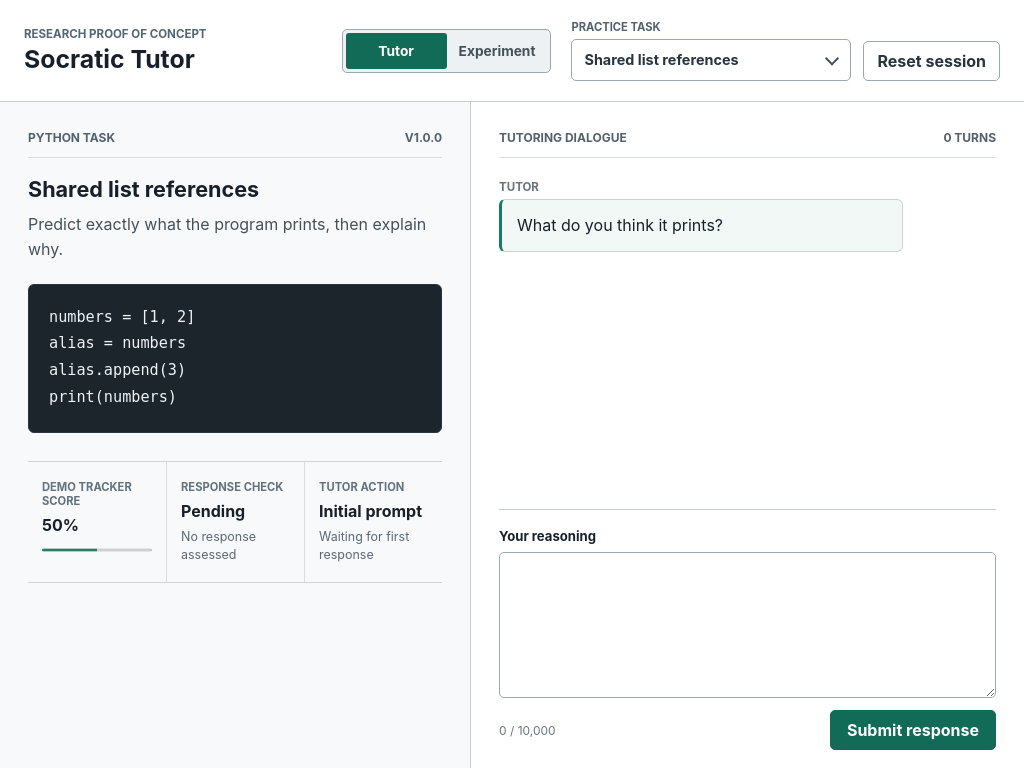
Test: retries a failed submission with the same idempotency key
The width and height of the screenshot is (1024, 768).
Type "my response" into the text box labelled "Your reasoning".
click(748, 625); type("my response")  # box top-left (499, 552), bottom-right (996, 698)
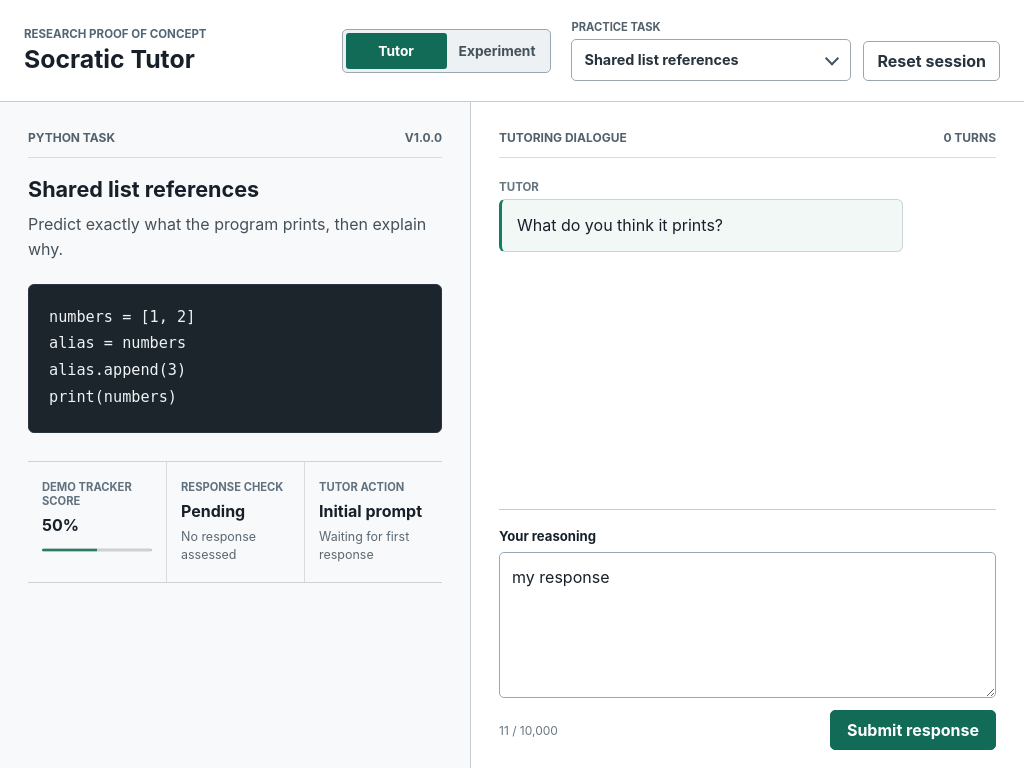
Click the button "Submit response".
click(913, 730)  # box top-left (830, 710), bottom-right (996, 750)
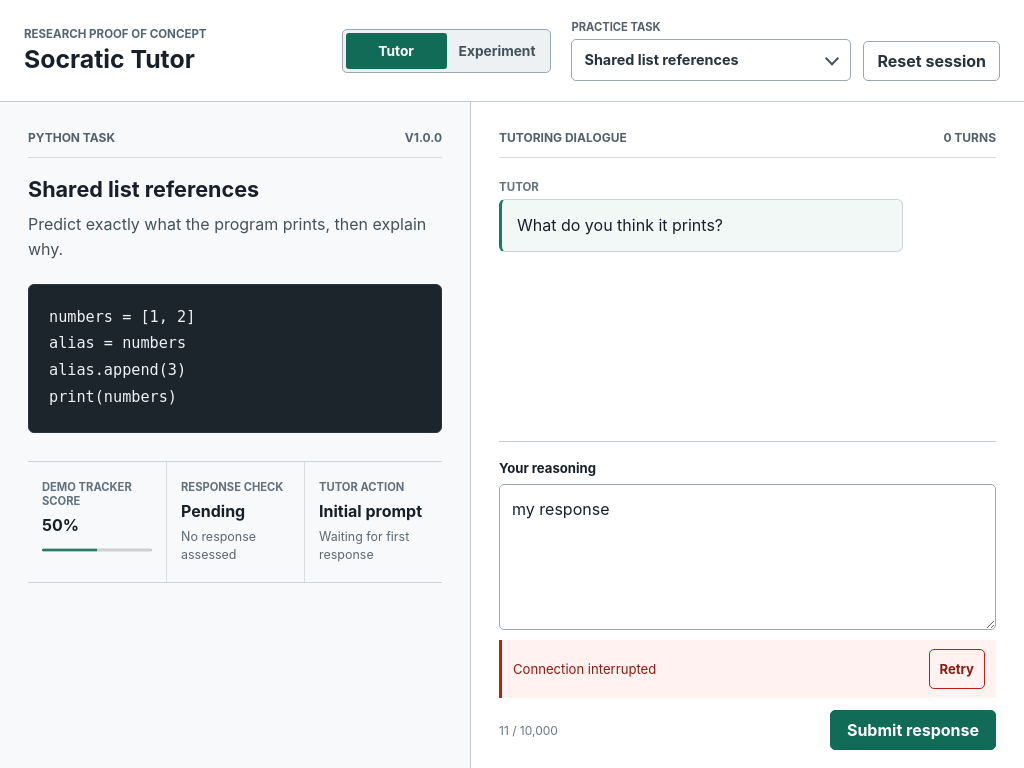
Check: the message shows "Connection interrupted", box top-left (513, 661), bottom-right (656, 677)
Click the button "Retry".
click(957, 669)  # box top-left (928, 649), bottom-right (985, 689)
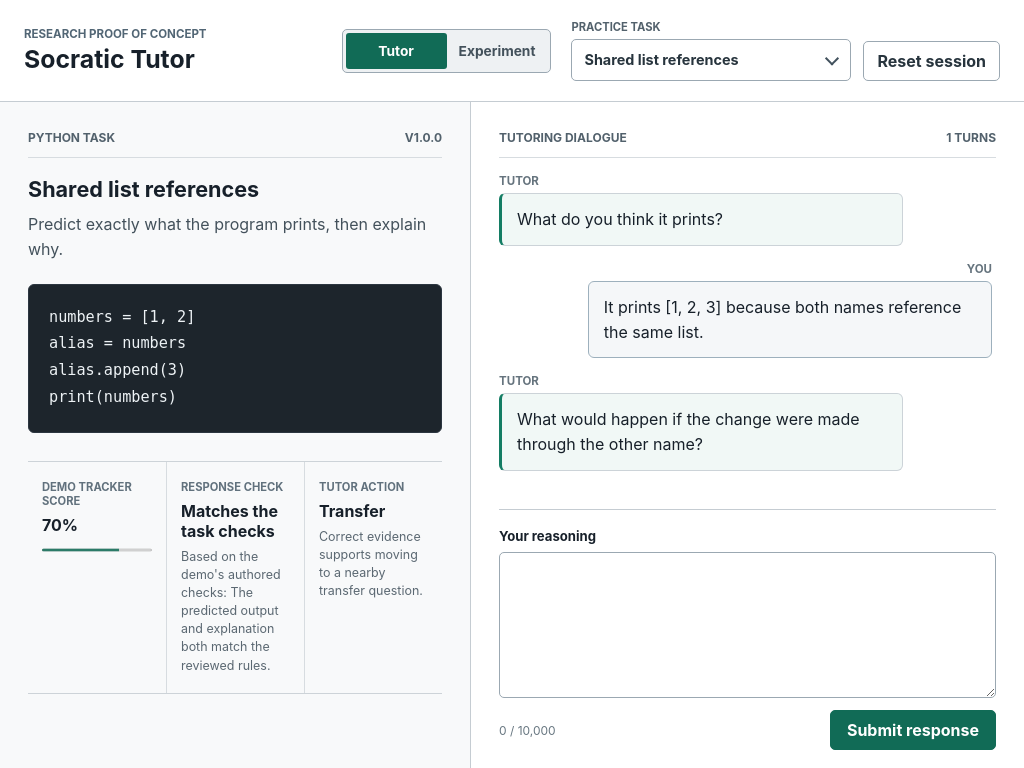
Check: the text "70%" is shown, box top-left (42, 515), bottom-right (78, 535)
